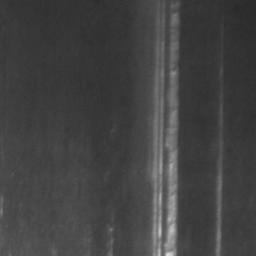Bright scratch: (152, 0, 182, 256), (215, 69, 224, 256)
